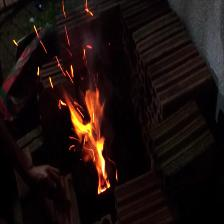fire: (38, 54, 131, 203)
